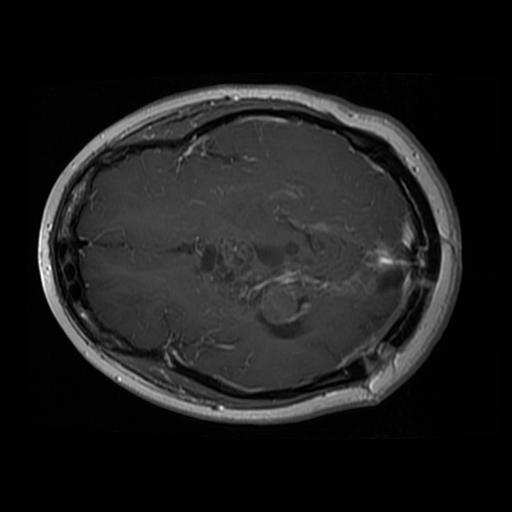glioma: (173, 239, 398, 341)
